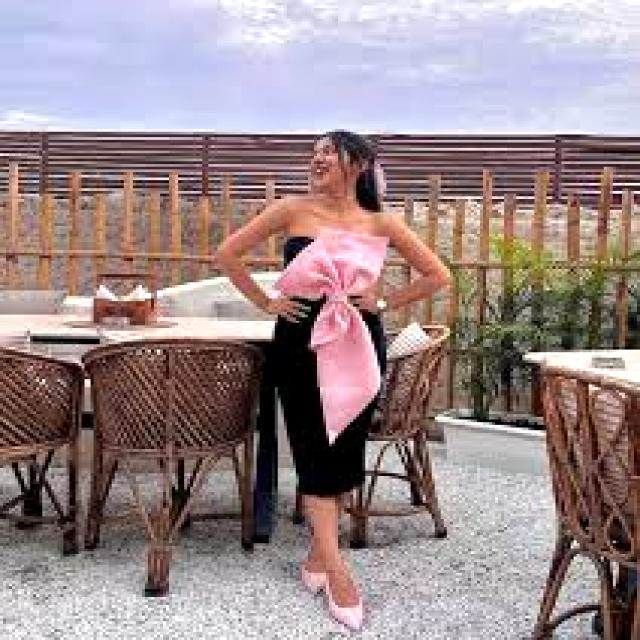dress: (272, 299, 374, 497)
foot-wear: (324, 579, 365, 631), (302, 565, 326, 594)
